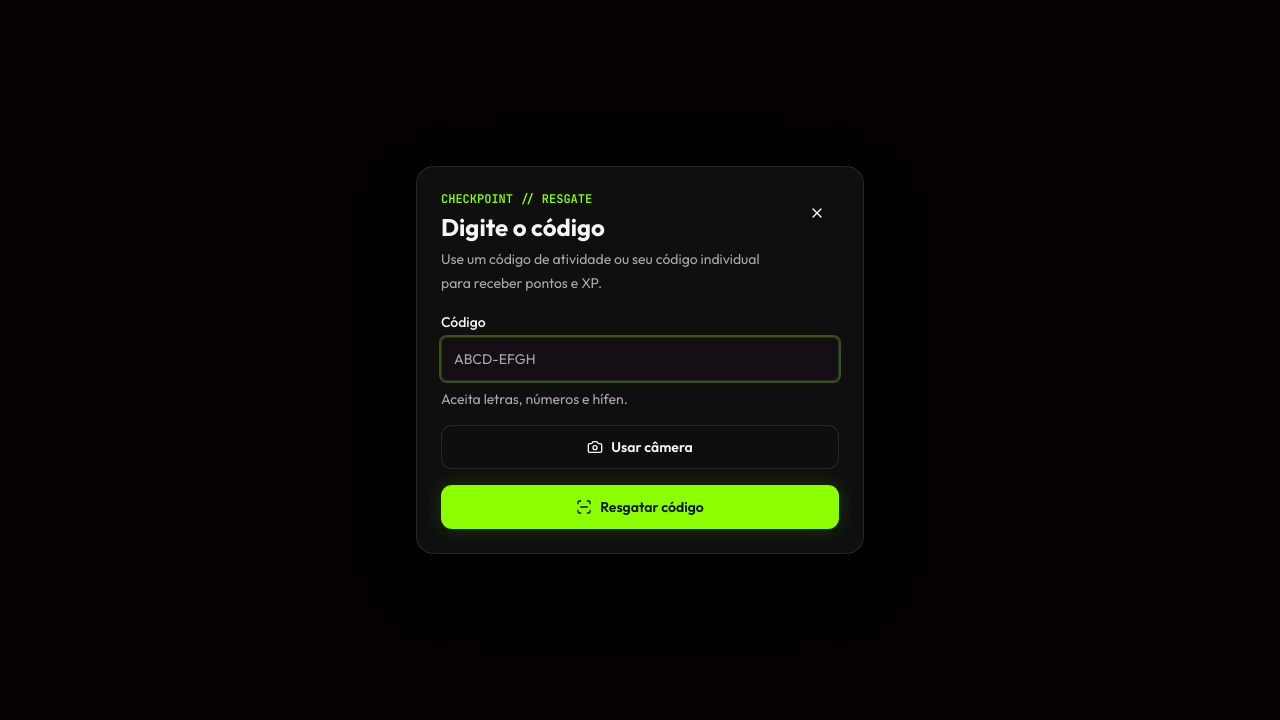
Test: RedeemCodeDialog › mostra uma orientação acionável quando o dispositivo nega a câmera
Click the button "Usar câmera".
click(640, 447)  # box [441, 425, 839, 469]
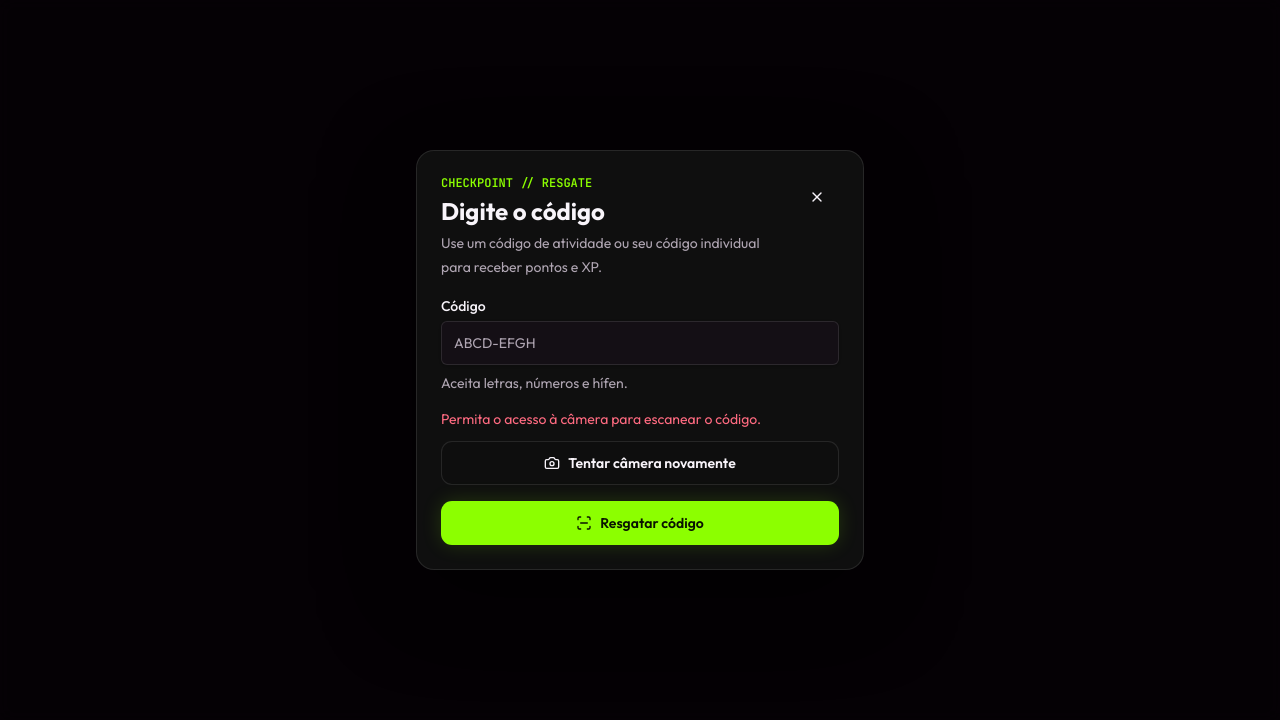
Result: the text "Permita o acesso à câmera para escanear o código." is shown at [441, 410, 761, 428]
